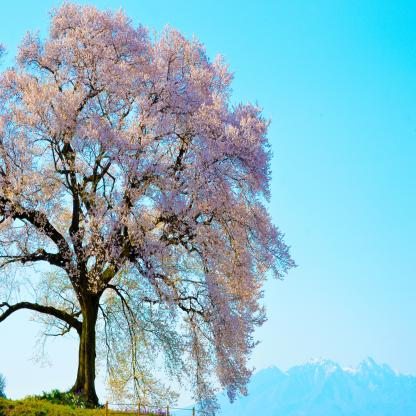EdohiganSakura: (0, 0, 299, 413)
